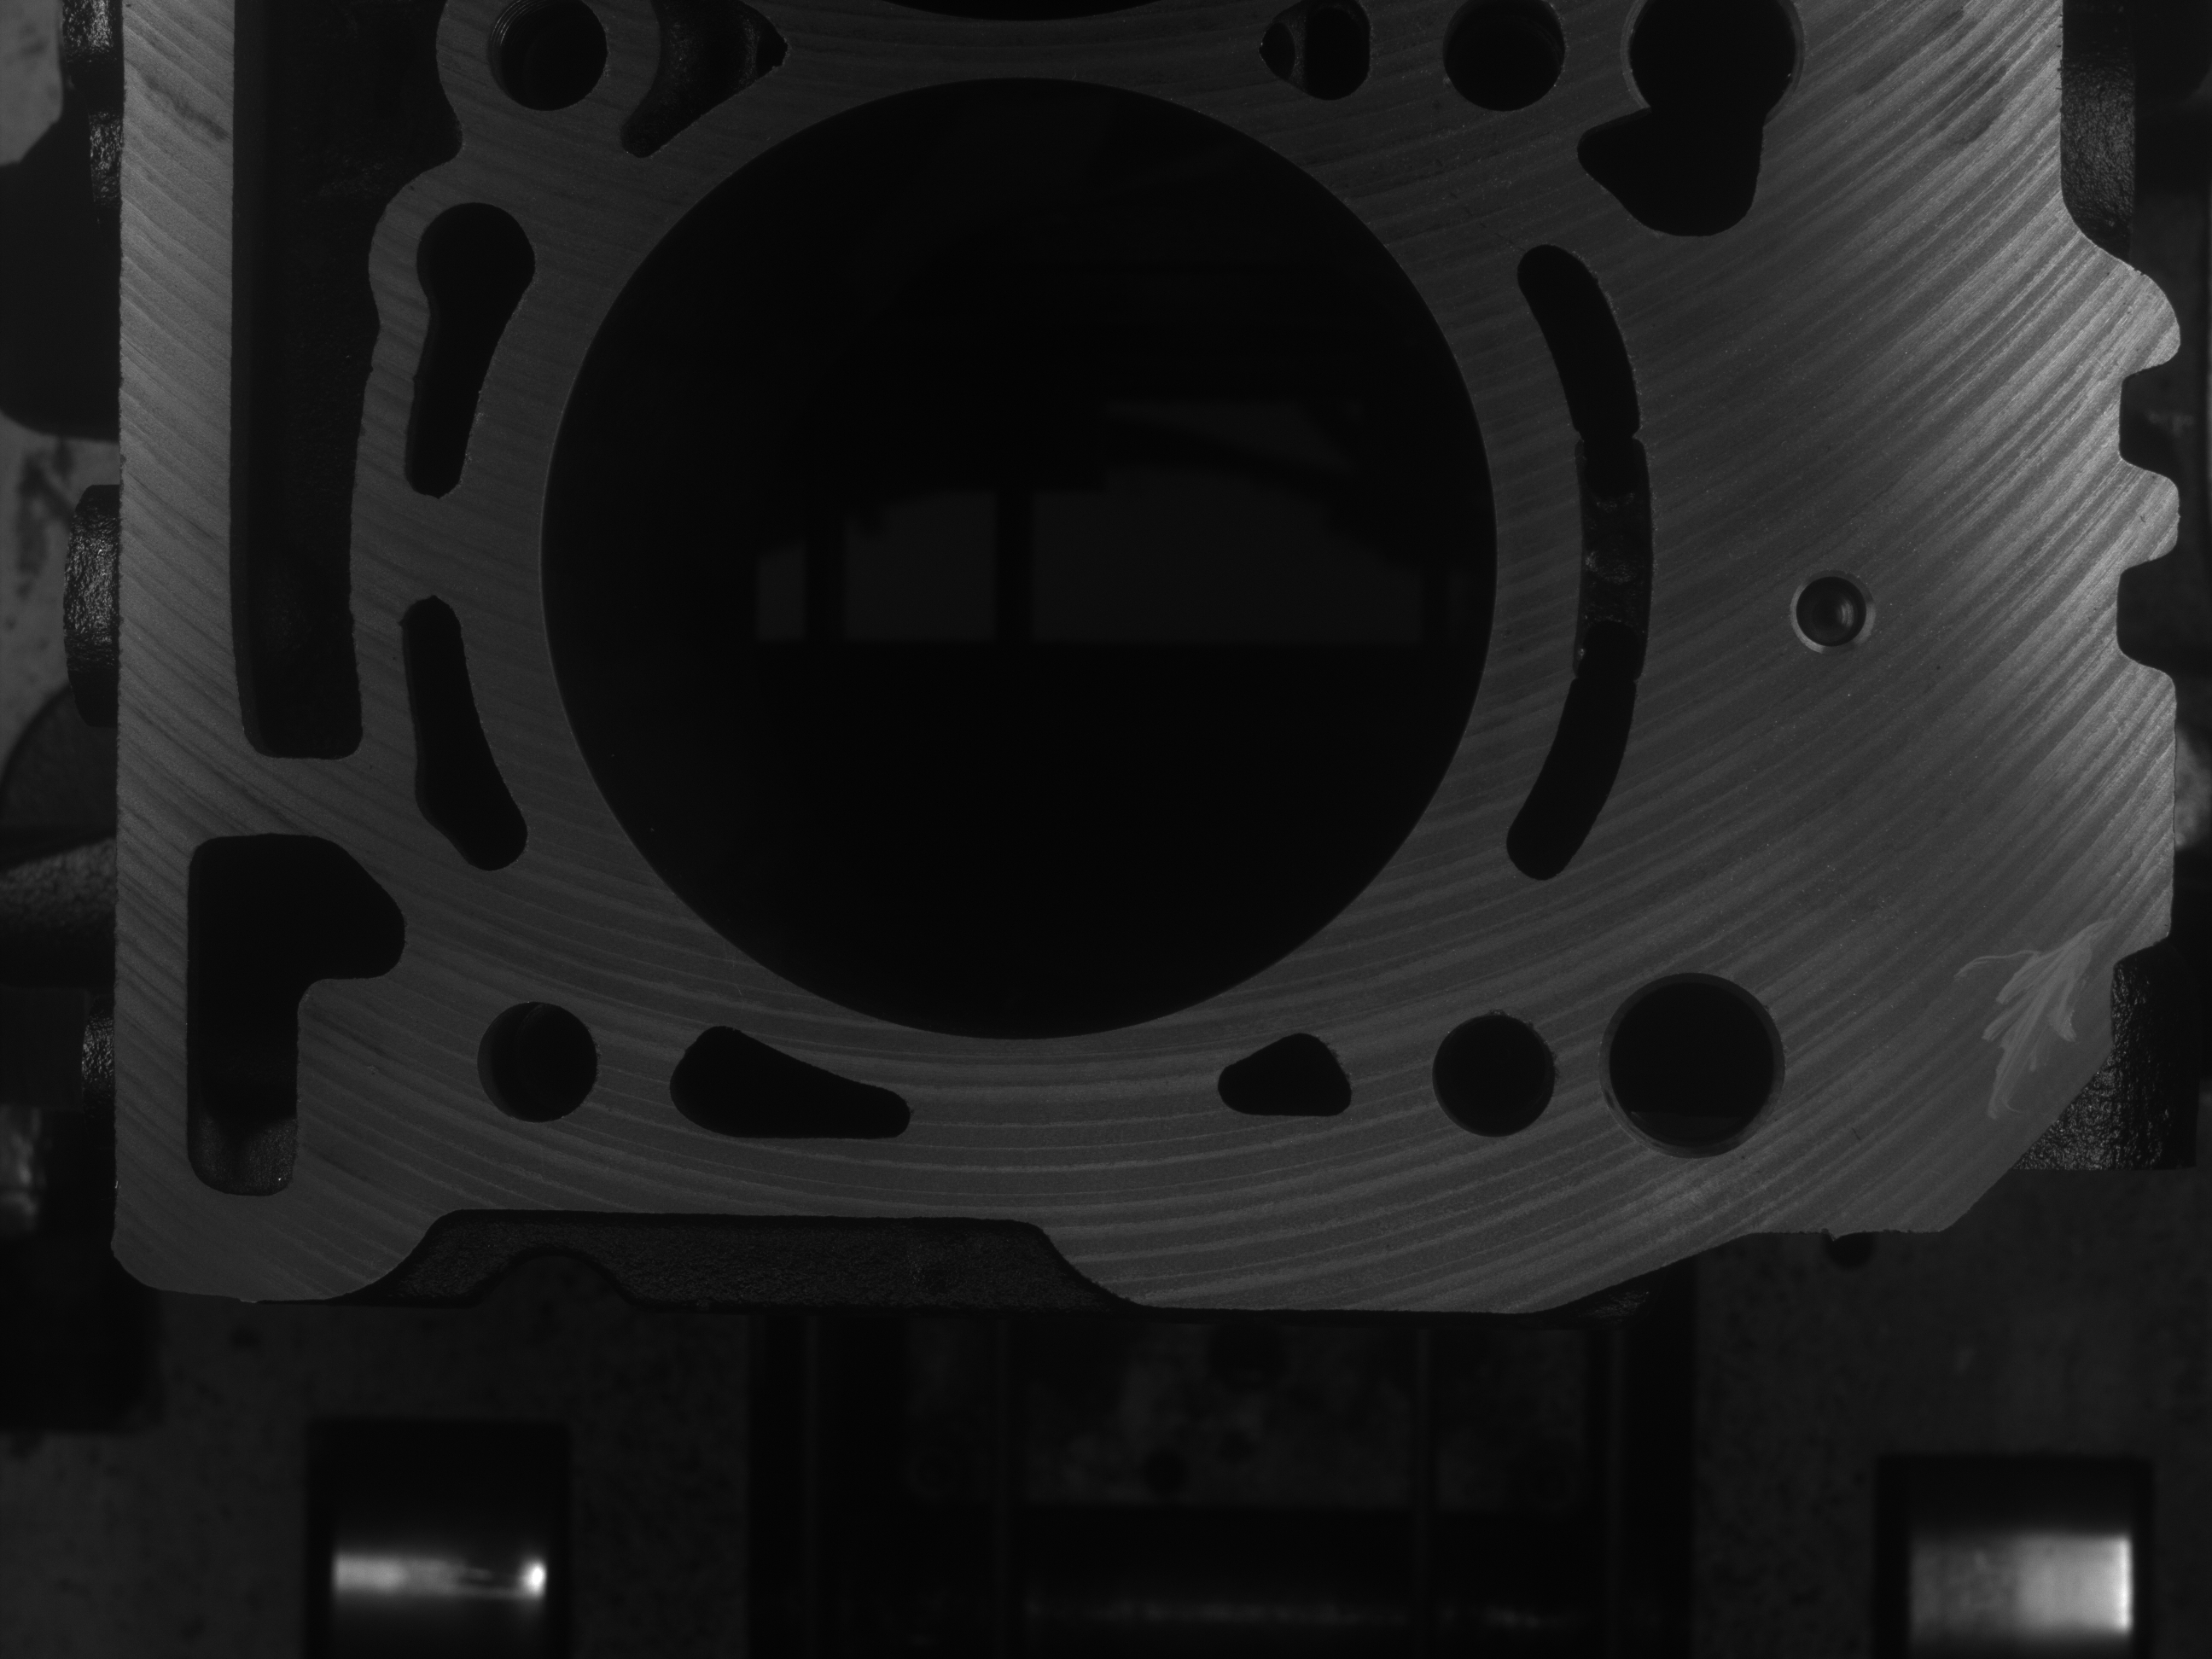dirty: (1959, 901, 2099, 1143)
